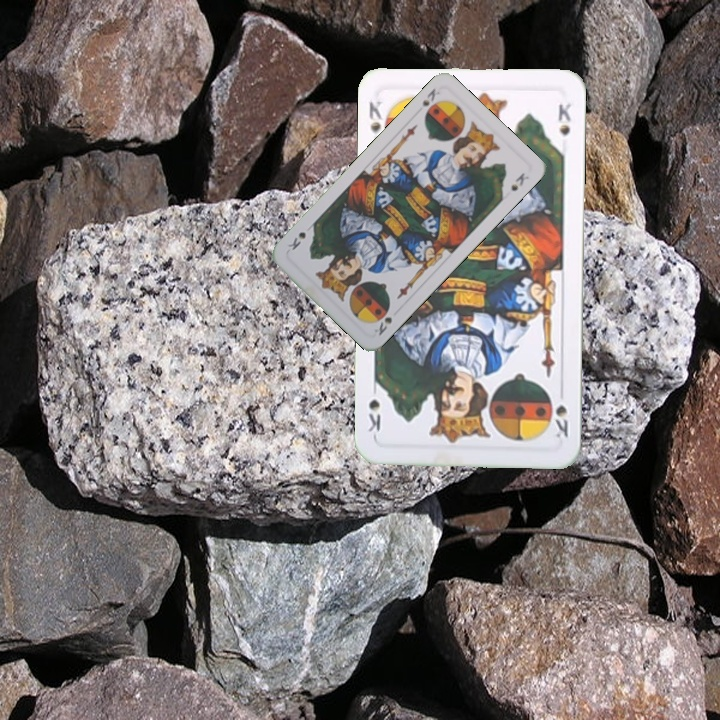SK: (551, 384, 571, 441), (364, 96, 385, 135), (418, 84, 442, 109), (374, 313, 395, 338)
